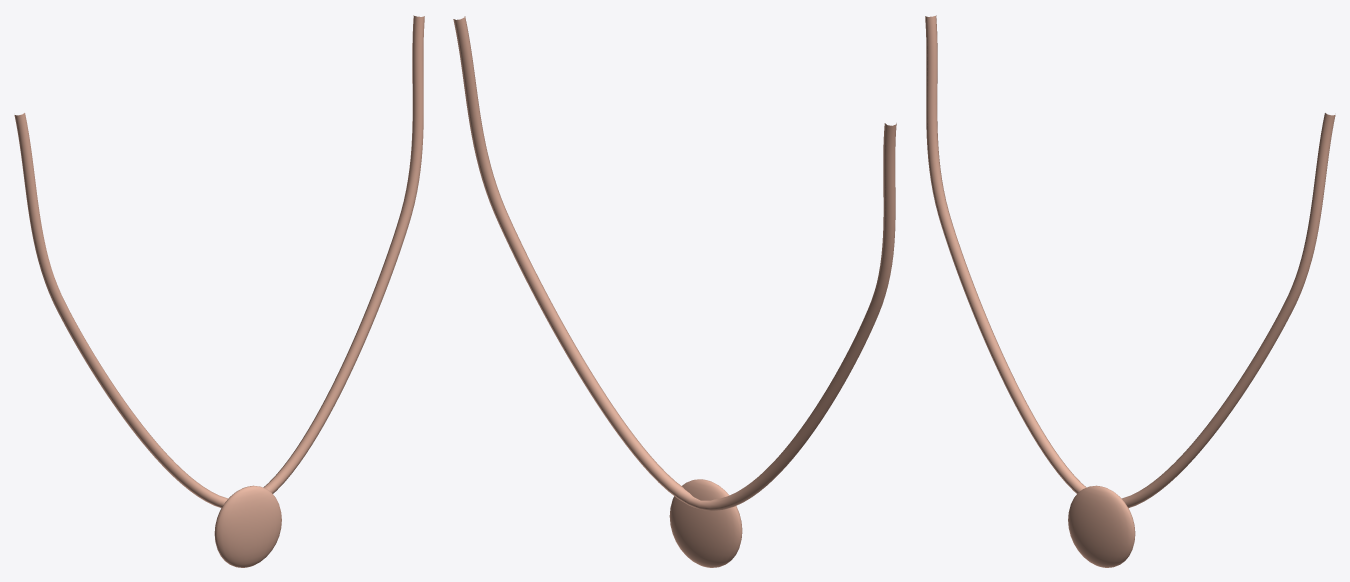
3 views of the same model, side by side, from view 1: azimuth 30°, elevation 25°; view 2: azimuth 150°, elevation 25°; view 3: azimuth 330°, elevation 25° (orthographic). The views are drawn at different scales.
Size of the model in its own units: 1.48 by 1.66 by 0.2339.
